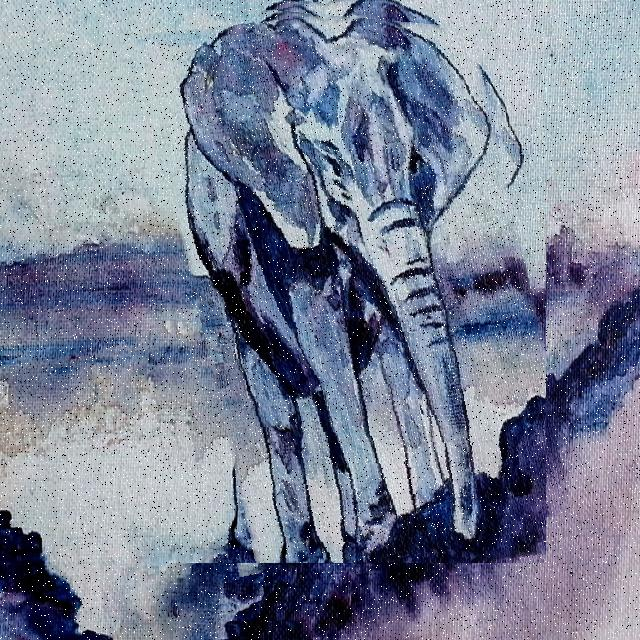elephant: (159, 0, 546, 563)
